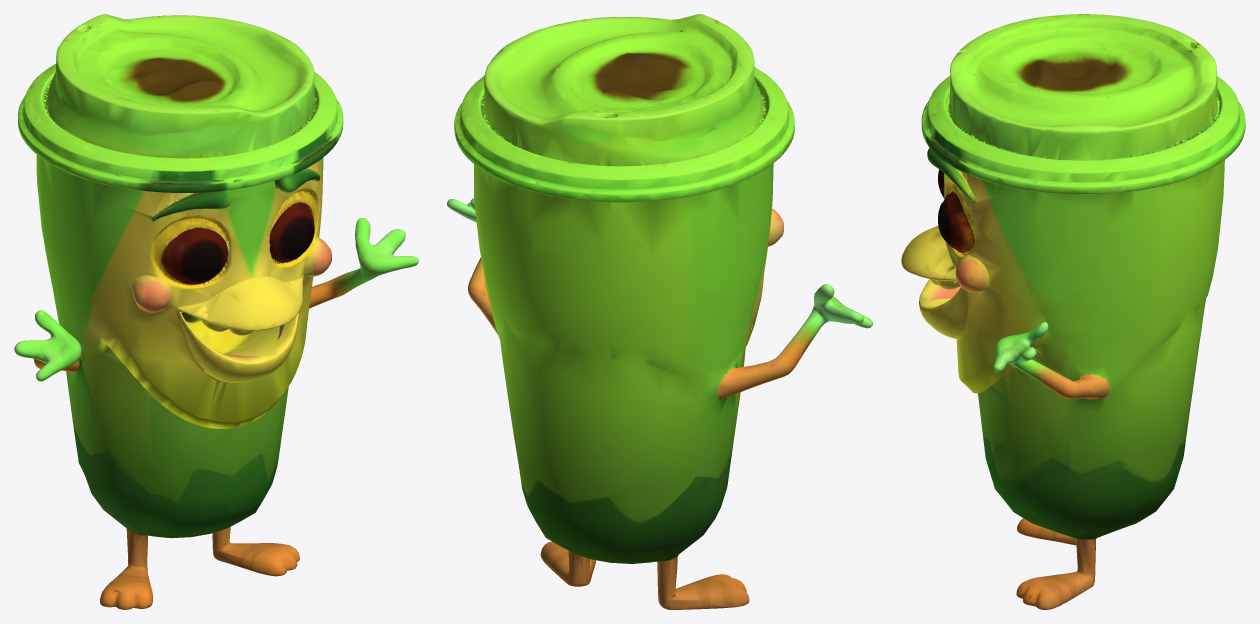
Rendered from avocado-coffee-cup-54704.glb.
3 views of the same model, side by side, from view 1: azimuth 30°, elevation 25°; view 2: azimuth 150°, elevation 25°; view 3: azimuth 270°, elevation 25° (orthographic). The views are drawn at different scales.
Bounding box in the file's own units: 1.55 × 1.91 × 1.19.
1 material, 1 textured.
